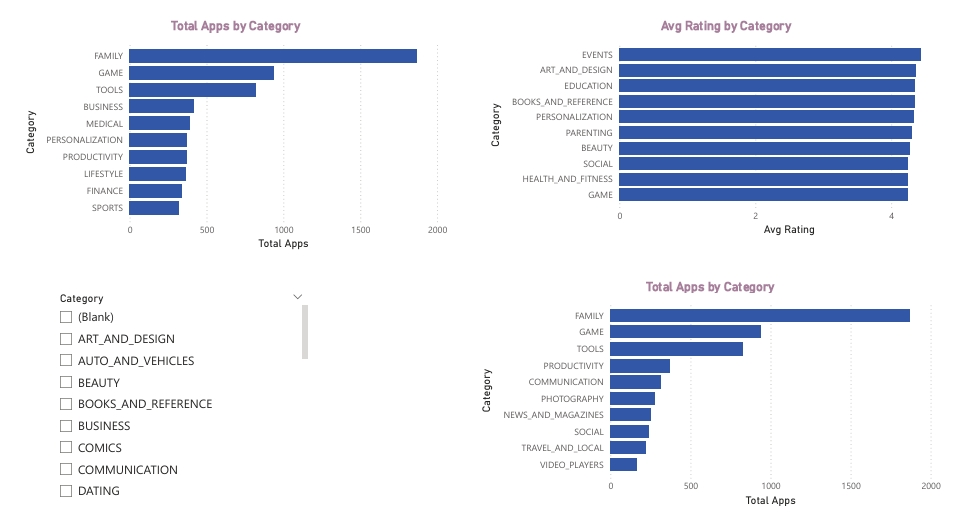

This screenshot's page, from the dashboard's own definition file:
{"tool":"powerbi","page":{"name":"Categoary Analysis","canvas":[1280,720],"ordinal":1},"visuals":[{"type":"clusteredBarChart","fields":{"Category":["PlayStore.Category"],"Y":["PlayStore.Total Apps"]},"box":[18.5,65.7,574.3,313.3],"z":0},{"type":"clusteredBarChart","fields":{"Category":["PlayStore.Category"],"Y":["PlayStore.Total Apps"]},"box":[626.5,412.6,624.8,308.2],"z":1},{"type":"clusteredBarChart","fields":{"Category":["PlayStore.Category"],"Y":["PlayStore.Avg Rating"]},"box":[640,65.7,640,294.7],"z":2},{"type":"slicer","fields":{"Values":["PlayStore.Category"]},"box":[58.9,426.1,348.6,294.7],"z":3}]}

Visuals, with their boxes on the page's 1280x720 design canvas (x1, y1, x2, y2). These are canvas units, not pixel positions in the 958x516 screenshot, which may show the page scaled, cropped or inside an application window:
clusteredBarChart - PlayStore.Category x PlayStore.Total Apps: (left=18, top=66, right=593, bottom=379)
clusteredBarChart - PlayStore.Category x PlayStore.Total Apps: (left=626, top=413, right=1251, bottom=721)
clusteredBarChart - PlayStore.Category x PlayStore.Avg Rating: (left=640, top=66, right=1280, bottom=360)
slicer - PlayStore.Category: (left=59, top=426, right=408, bottom=721)
